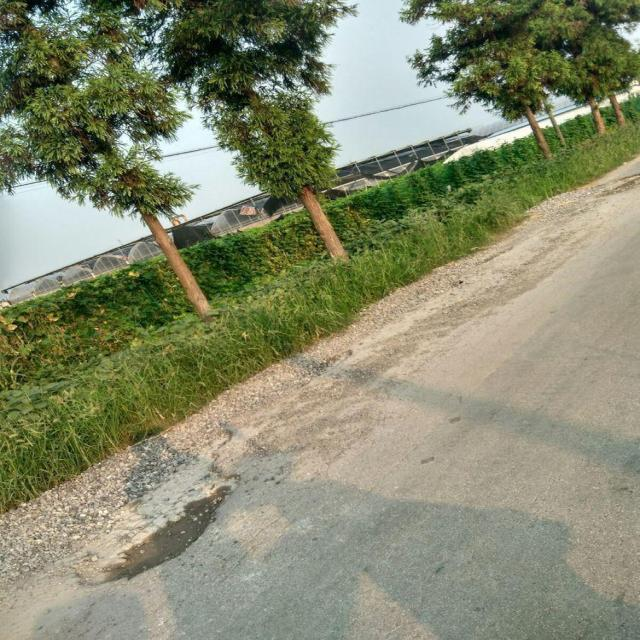pothole: (57, 469, 241, 586), (304, 347, 356, 379), (595, 173, 640, 199)
